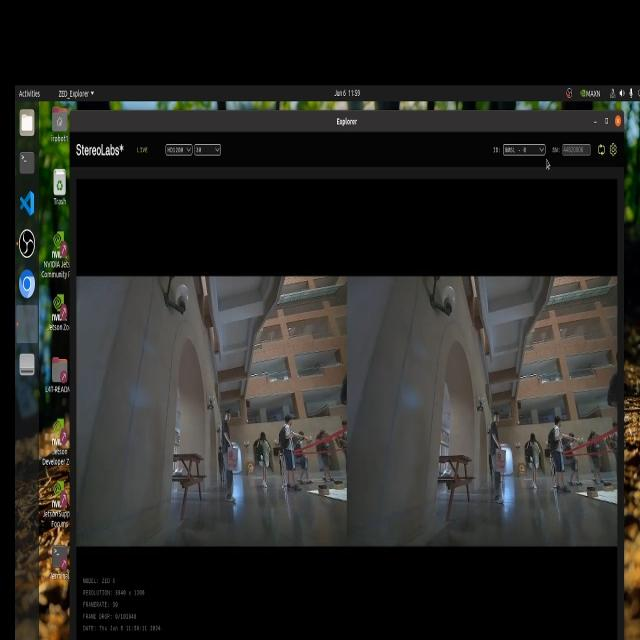red: (494, 447, 506, 477), (226, 448, 238, 469)
